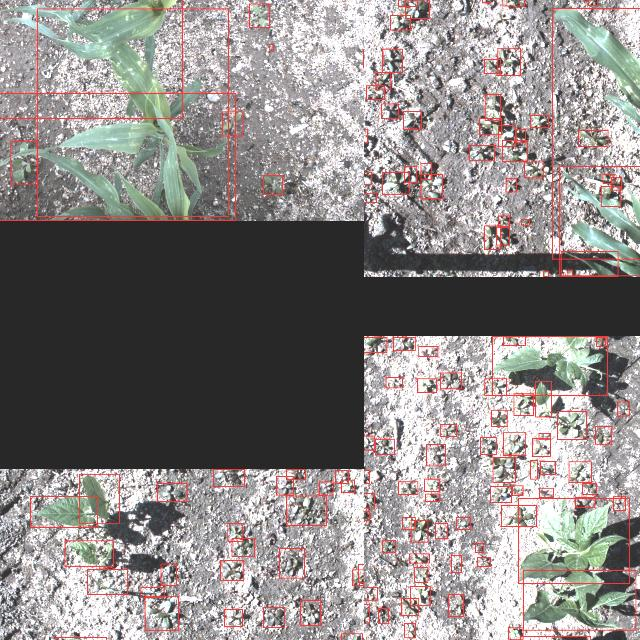crop: (38, 8, 228, 216), (0, 92, 236, 220), (552, 7, 640, 258), (0, 0, 182, 117), (518, 497, 630, 583), (560, 166, 640, 276), (492, 336, 608, 394), (524, 570, 636, 630), (31, 496, 98, 526), (79, 473, 119, 522), (560, 252, 618, 276), (64, 540, 114, 566), (88, 568, 128, 594), (535, 380, 551, 416)
weed: (10, 140, 38, 183), (286, 495, 326, 525), (145, 595, 179, 629), (558, 411, 586, 439), (502, 504, 536, 526), (280, 547, 304, 577), (492, 456, 516, 482), (498, 47, 520, 75), (382, 172, 408, 194), (213, 468, 244, 486), (157, 482, 187, 500), (222, 111, 244, 135), (421, 174, 443, 198), (502, 140, 528, 160), (504, 432, 526, 454), (249, 3, 269, 27), (578, 130, 608, 146), (382, 48, 402, 72), (301, 600, 321, 624), (220, 560, 243, 580), (263, 607, 285, 627), (514, 393, 534, 415), (569, 461, 591, 481), (406, 0, 430, 17), (601, 186, 621, 206), (410, 586, 430, 606), (426, 444, 446, 464), (498, 124, 516, 146), (232, 538, 254, 556), (410, 520, 428, 542), (484, 225, 500, 249), (470, 144, 494, 160), (486, 94, 500, 120), (479, 118, 501, 134), (160, 563, 176, 585), (448, 594, 464, 616), (485, 378, 507, 394), (364, 336, 387, 351), (491, 486, 512, 502), (441, 372, 462, 388), (264, 176, 282, 194), (403, 111, 421, 129), (224, 608, 242, 626), (276, 476, 294, 494), (532, 438, 550, 456), (524, 161, 544, 177), (393, 336, 415, 350), (390, 15, 410, 30), (402, 598, 418, 616), (480, 436, 496, 454), (596, 425, 612, 443), (376, 438, 394, 454), (417, 378, 437, 392), (398, 481, 418, 494), (485, 58, 501, 74), (491, 409, 507, 425), (530, 114, 548, 128), (376, 71, 390, 89), (366, 85, 384, 99), (228, 523, 242, 541), (496, 227, 509, 245), (140, 587, 163, 597), (382, 104, 398, 118), (414, 566, 428, 582), (540, 460, 556, 474), (439, 424, 456, 436), (286, 469, 306, 479), (575, 497, 595, 507), (418, 345, 438, 355), (405, 166, 417, 182), (352, 569, 364, 585), (404, 622, 416, 638), (424, 478, 440, 490), (319, 481, 333, 494), (421, 163, 432, 179), (341, 632, 363, 640), (503, 336, 525, 344), (364, 586, 377, 599), (342, 478, 354, 492), (402, 517, 416, 529), (436, 524, 448, 538), (382, 540, 396, 552), (456, 517, 470, 529), (617, 401, 629, 415), (613, 496, 625, 510), (409, 554, 429, 562), (451, 556, 461, 572), (378, 608, 388, 624), (508, 628, 524, 638), (386, 377, 402, 387), (583, 482, 597, 493), (530, 459, 538, 478), (364, 492, 374, 507), (336, 470, 348, 482), (506, 178, 516, 192), (516, 128, 526, 142), (539, 487, 553, 497), (611, 177, 621, 190), (424, 493, 440, 501), (364, 435, 373, 449), (498, 216, 509, 227), (512, 485, 524, 495), (364, 193, 377, 202), (398, 0, 417, 6), (358, 563, 364, 582), (364, 604, 369, 624), (596, 336, 606, 346), (602, 174, 614, 182), (478, 558, 490, 566), (364, 171, 371, 184), (503, 0, 525, 4), (476, 542, 484, 552), (539, 432, 551, 438), (364, 469, 369, 483), (364, 510, 369, 519), (588, 0, 598, 4), (364, 129, 367, 142), (521, 220, 529, 224), (269, 43, 273, 49), (568, 270, 572, 276), (544, 272, 548, 276)
